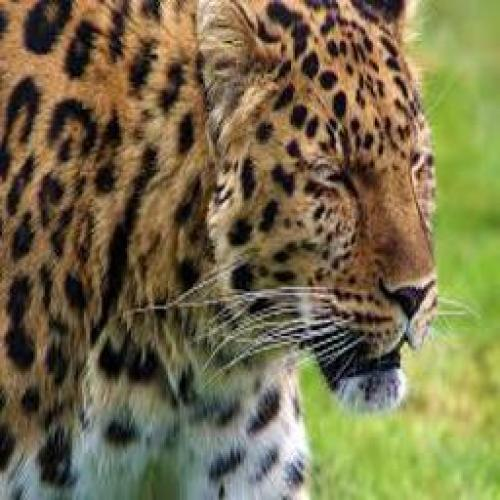amur_leopard-endangered: (8, 0, 442, 428)
